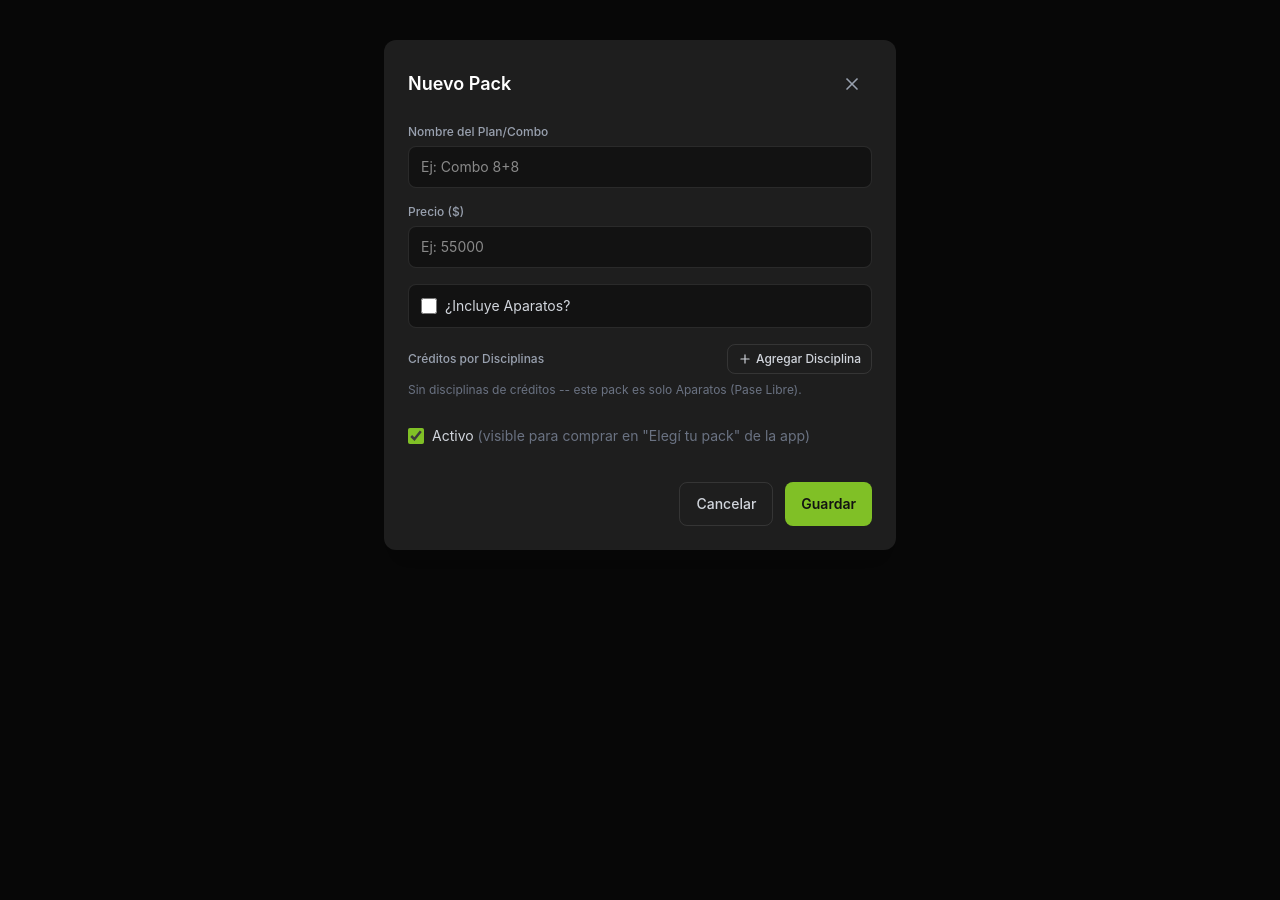
Test: PackModal -- alta/edición de un pack/combo real de `packs` (precio/créditos que usa Mercado Pago) › tildar "¿Incluye Aparatos?" muestra Días de Vigencia con los atajos de meses
Step 1. Click the switch labelled "¿Incluye Aparatos?" → {"x": 429, "y": 306}, box [421,298,437,314]
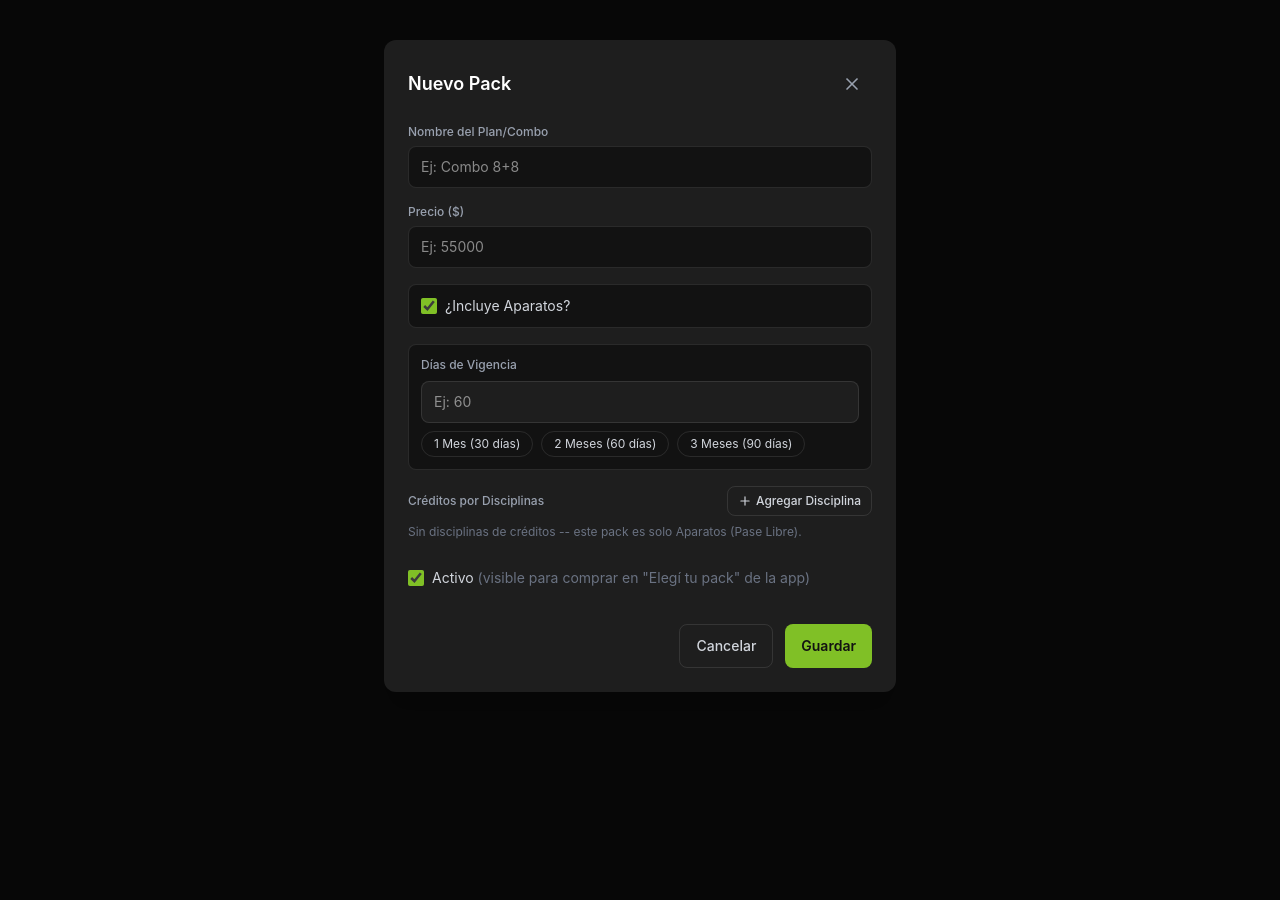
Result: the number field labelled "Días de Vigencia" is shown at [421,381,859,423]
Step 2. Click the button "2 Meses (60 días)" → {"x": 605, "y": 444}, box [541,431,669,457]
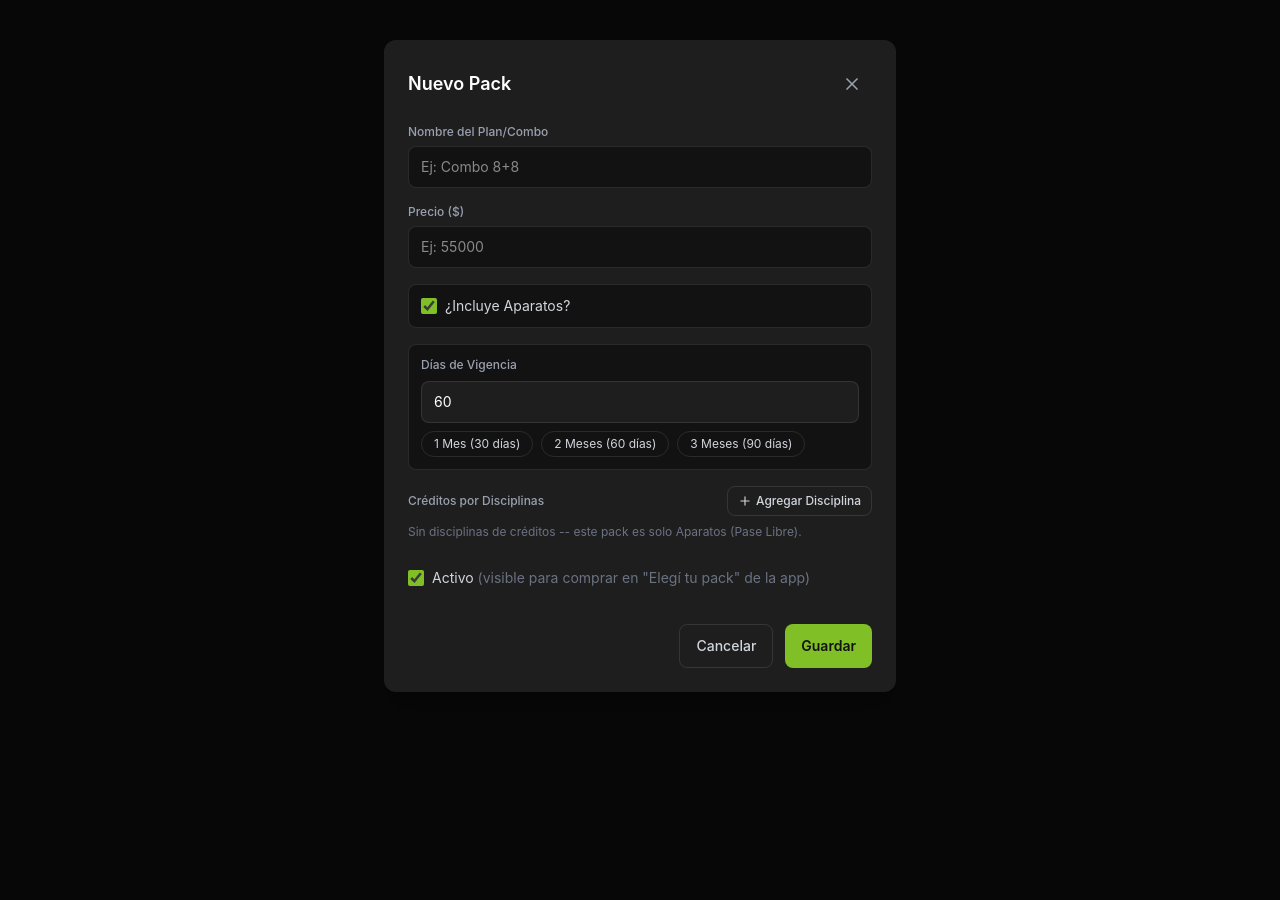
Result: the number field labelled "Días de Vigencia" holds "60" at [421,381,859,423]
